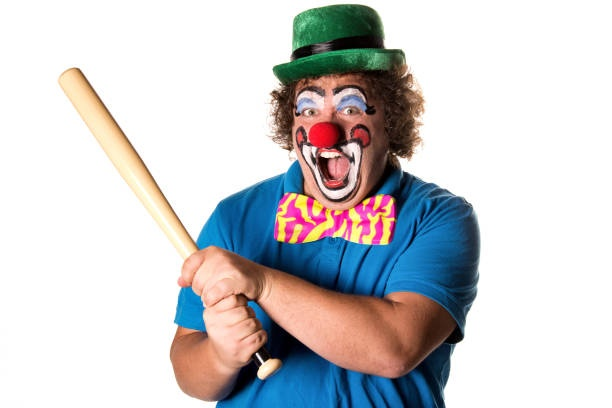bita: (60, 69, 264, 363)
